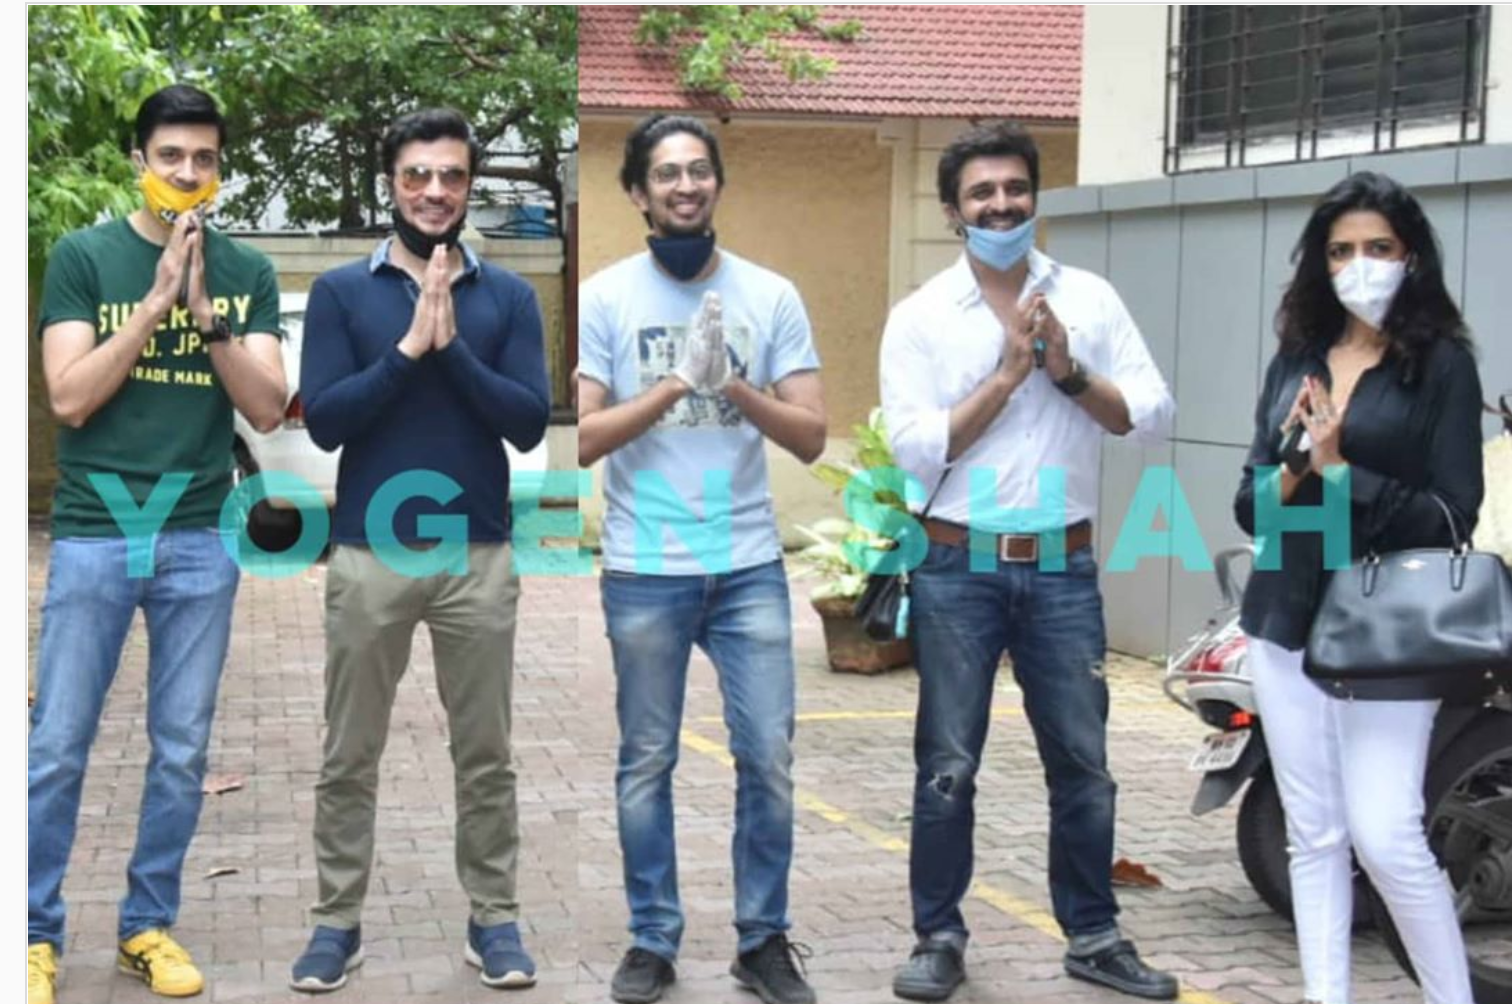mask_weared_incorrect: (622, 131, 729, 264), (939, 162, 1046, 263), (381, 146, 477, 252), (130, 122, 226, 228)
with_mask: (1320, 218, 1420, 328)
